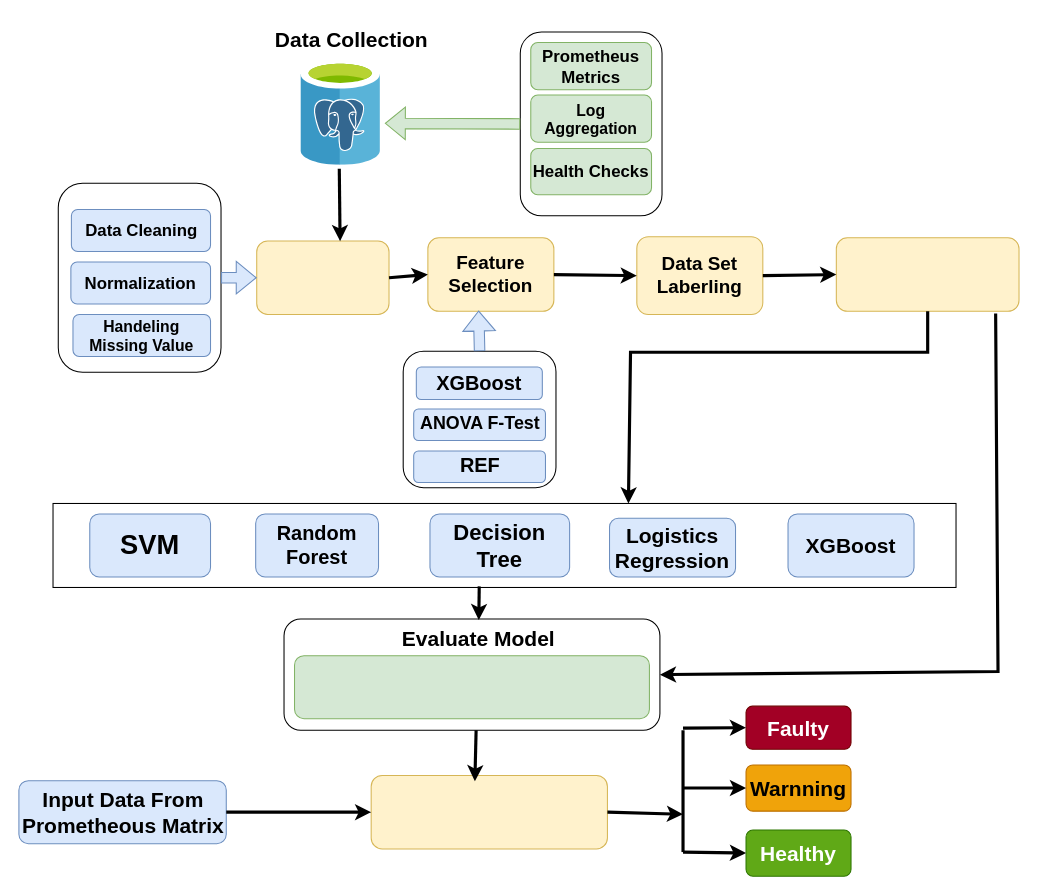
This 1037x895 diagram has some shape labels left out. Each missing label, with the box of its shape:
Based On Accuracy,Precision ,Reacll , F1: (293, 655, 649, 719)
Chose The Best Model: (370, 774, 607, 849)
Data Processing: (256, 240, 389, 314)
Split the Data Train and Test set: (835, 237, 1019, 311)
